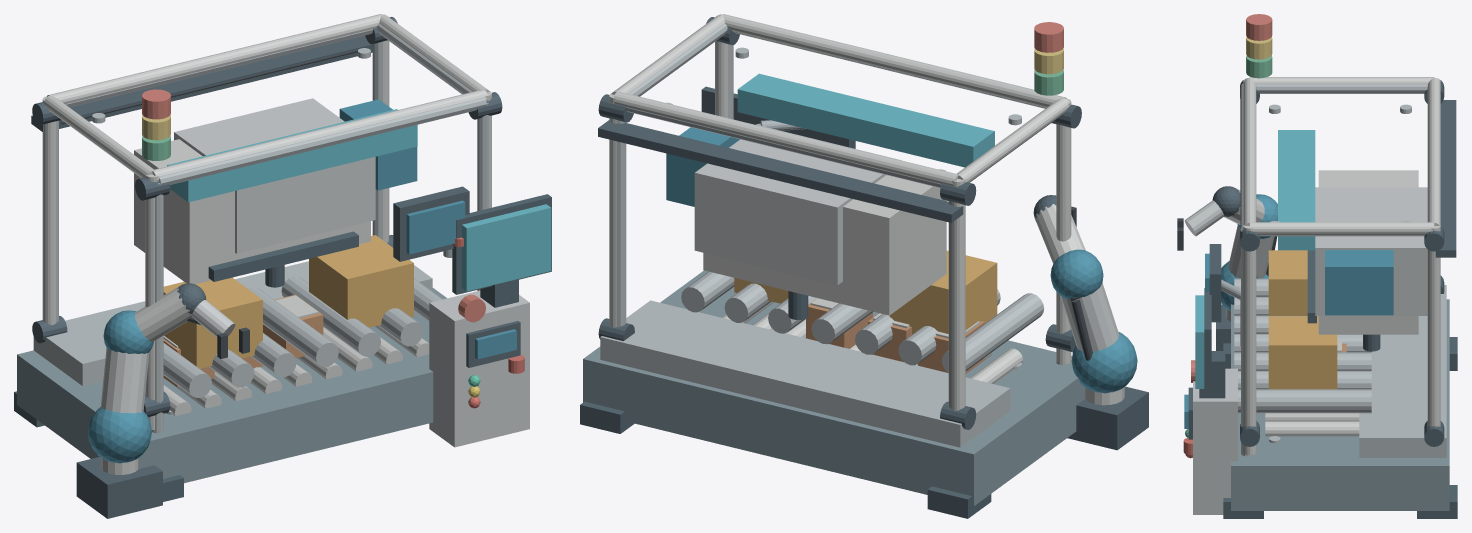
The model's file is dispatch.glb.
3 views of the same model, side by side, from view 1: azimuth 30°, elevation 25°; view 2: azimuth 150°, elevation 25°; view 3: azimuth 270°, elevation 25° (orthographic). The views are drawn at different scales.
Visible parts, largest first — view 1: fabricated_base, v9_68, v9_30, printer, carton_1.2, operator_hmi_screen, outfeed_scanner, control_plinth, v9_24, v9_20, carton_-1.3, v9_37 (+39 smaller); view 2: fabricated_base, control_plinth, v9_68, printer, outfeed_scanner, v9_24, v9_21, v9_20, carton_-1.3, v9_37, v9_0, dispatch_roller_0 (+31 smaller); view 3: fabricated_base, control_plinth, v9_68, v9_30, carton_1.2, v9_77, outfeed_scanner, printer, dispatch_roller_6, v9_15, carton_-1.3, v9_24 (+36 smaller).
Boxes of the visible parts, x1=… form: fabricated_base: x1=17, y1=288, x2=446, y2=483; v9_68: x1=174, y1=98, x2=375, y2=253; v9_30: x1=429, y1=290, x2=529, y2=447; printer: x1=134, y1=139, x2=370, y2=284; carton_1.2: x1=309, y1=235, x2=413, y2=327; operator_hmi_screen: x1=462, y1=204, x2=551, y2=291; outfeed_scanner: x1=167, y1=109, x2=417, y2=202; control_plinth: x1=33, y1=261, x2=432, y2=385; v9_24: x1=31, y1=35, x2=373, y2=131; v9_20: x1=47, y1=14, x2=381, y2=103; carton_-1.3: x1=163, y1=277, x2=262, y2=368; v9_37: x1=76, y1=457, x2=162, y2=518; fabricated_base: x1=583, y1=270, x2=1085, y2=506; control_plinth: x1=600, y1=300, x2=1010, y2=447; v9_68: x1=694, y1=125, x2=901, y2=285; printer: x1=703, y1=175, x2=946, y2=315; outfeed_scanner: x1=737, y1=73, x2=994, y2=167; v9_24: x1=598, y1=120, x2=963, y2=222; v9_21: x1=722, y1=14, x2=1066, y2=107; v9_20: x1=613, y1=92, x2=957, y2=185; carton_-1.3: x1=889, y1=250, x2=997, y2=334; v9_37: x1=1067, y1=386, x2=1148, y2=450; v9_0: x1=951, y1=179, x2=965, y2=410; dispatch_roller_0: x1=942, y1=293, x2=1044, y2=372; fabricated_base: x1=1231, y1=299, x2=1449, y2=510; control_plinth: x1=1359, y1=285, x2=1446, y2=457; v9_68: x1=1315, y1=187, x2=1427, y2=315; v9_30: x1=1193, y1=368, x2=1237, y2=514; carton_1.2: x1=1268, y1=316, x2=1337, y2=389; v9_77: x1=1325, y1=250, x2=1393, y2=315; outfeed_scanner: x1=1278, y1=130, x2=1315, y2=250; printer: x1=1318, y1=170, x2=1418, y2=334; dispatch_roller_6: x1=1238, y1=389, x2=1371, y2=413; v9_15: x1=1243, y1=225, x2=1256, y2=455; carton_-1.3: x1=1268, y1=250, x2=1307, y2=315; v9_24: x1=1435, y1=100, x2=1456, y2=257.
Size of the model in its own units: 7.25 by 6.15 by 4.48.
